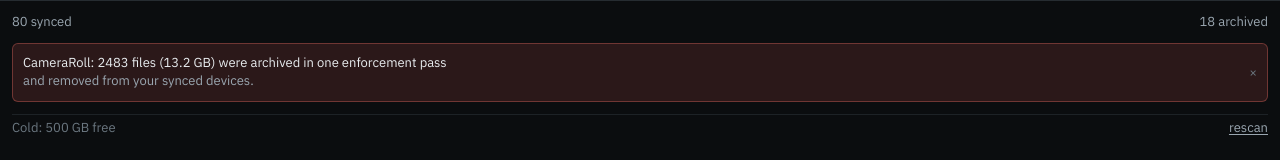
StatusBar › should announce a bulk eviction and let the owner dismiss it
Expected: the text "2483 files" shows "CameraRoll", [23,54,91,71]
Click the button named "Dismiss". click: (1253, 73)
box: [1249,54,1257,91]
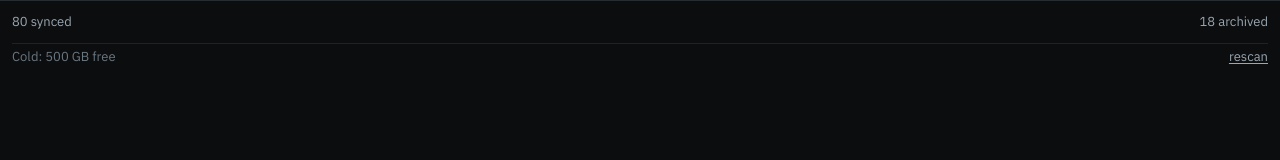
Expected: the text "2483 files" is gone
